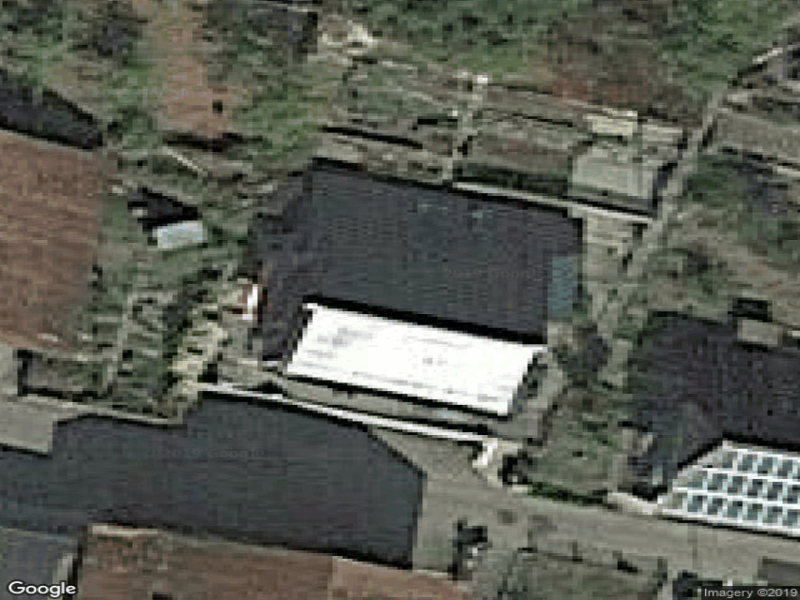pv: (291, 310, 533, 416), (671, 446, 800, 535)
